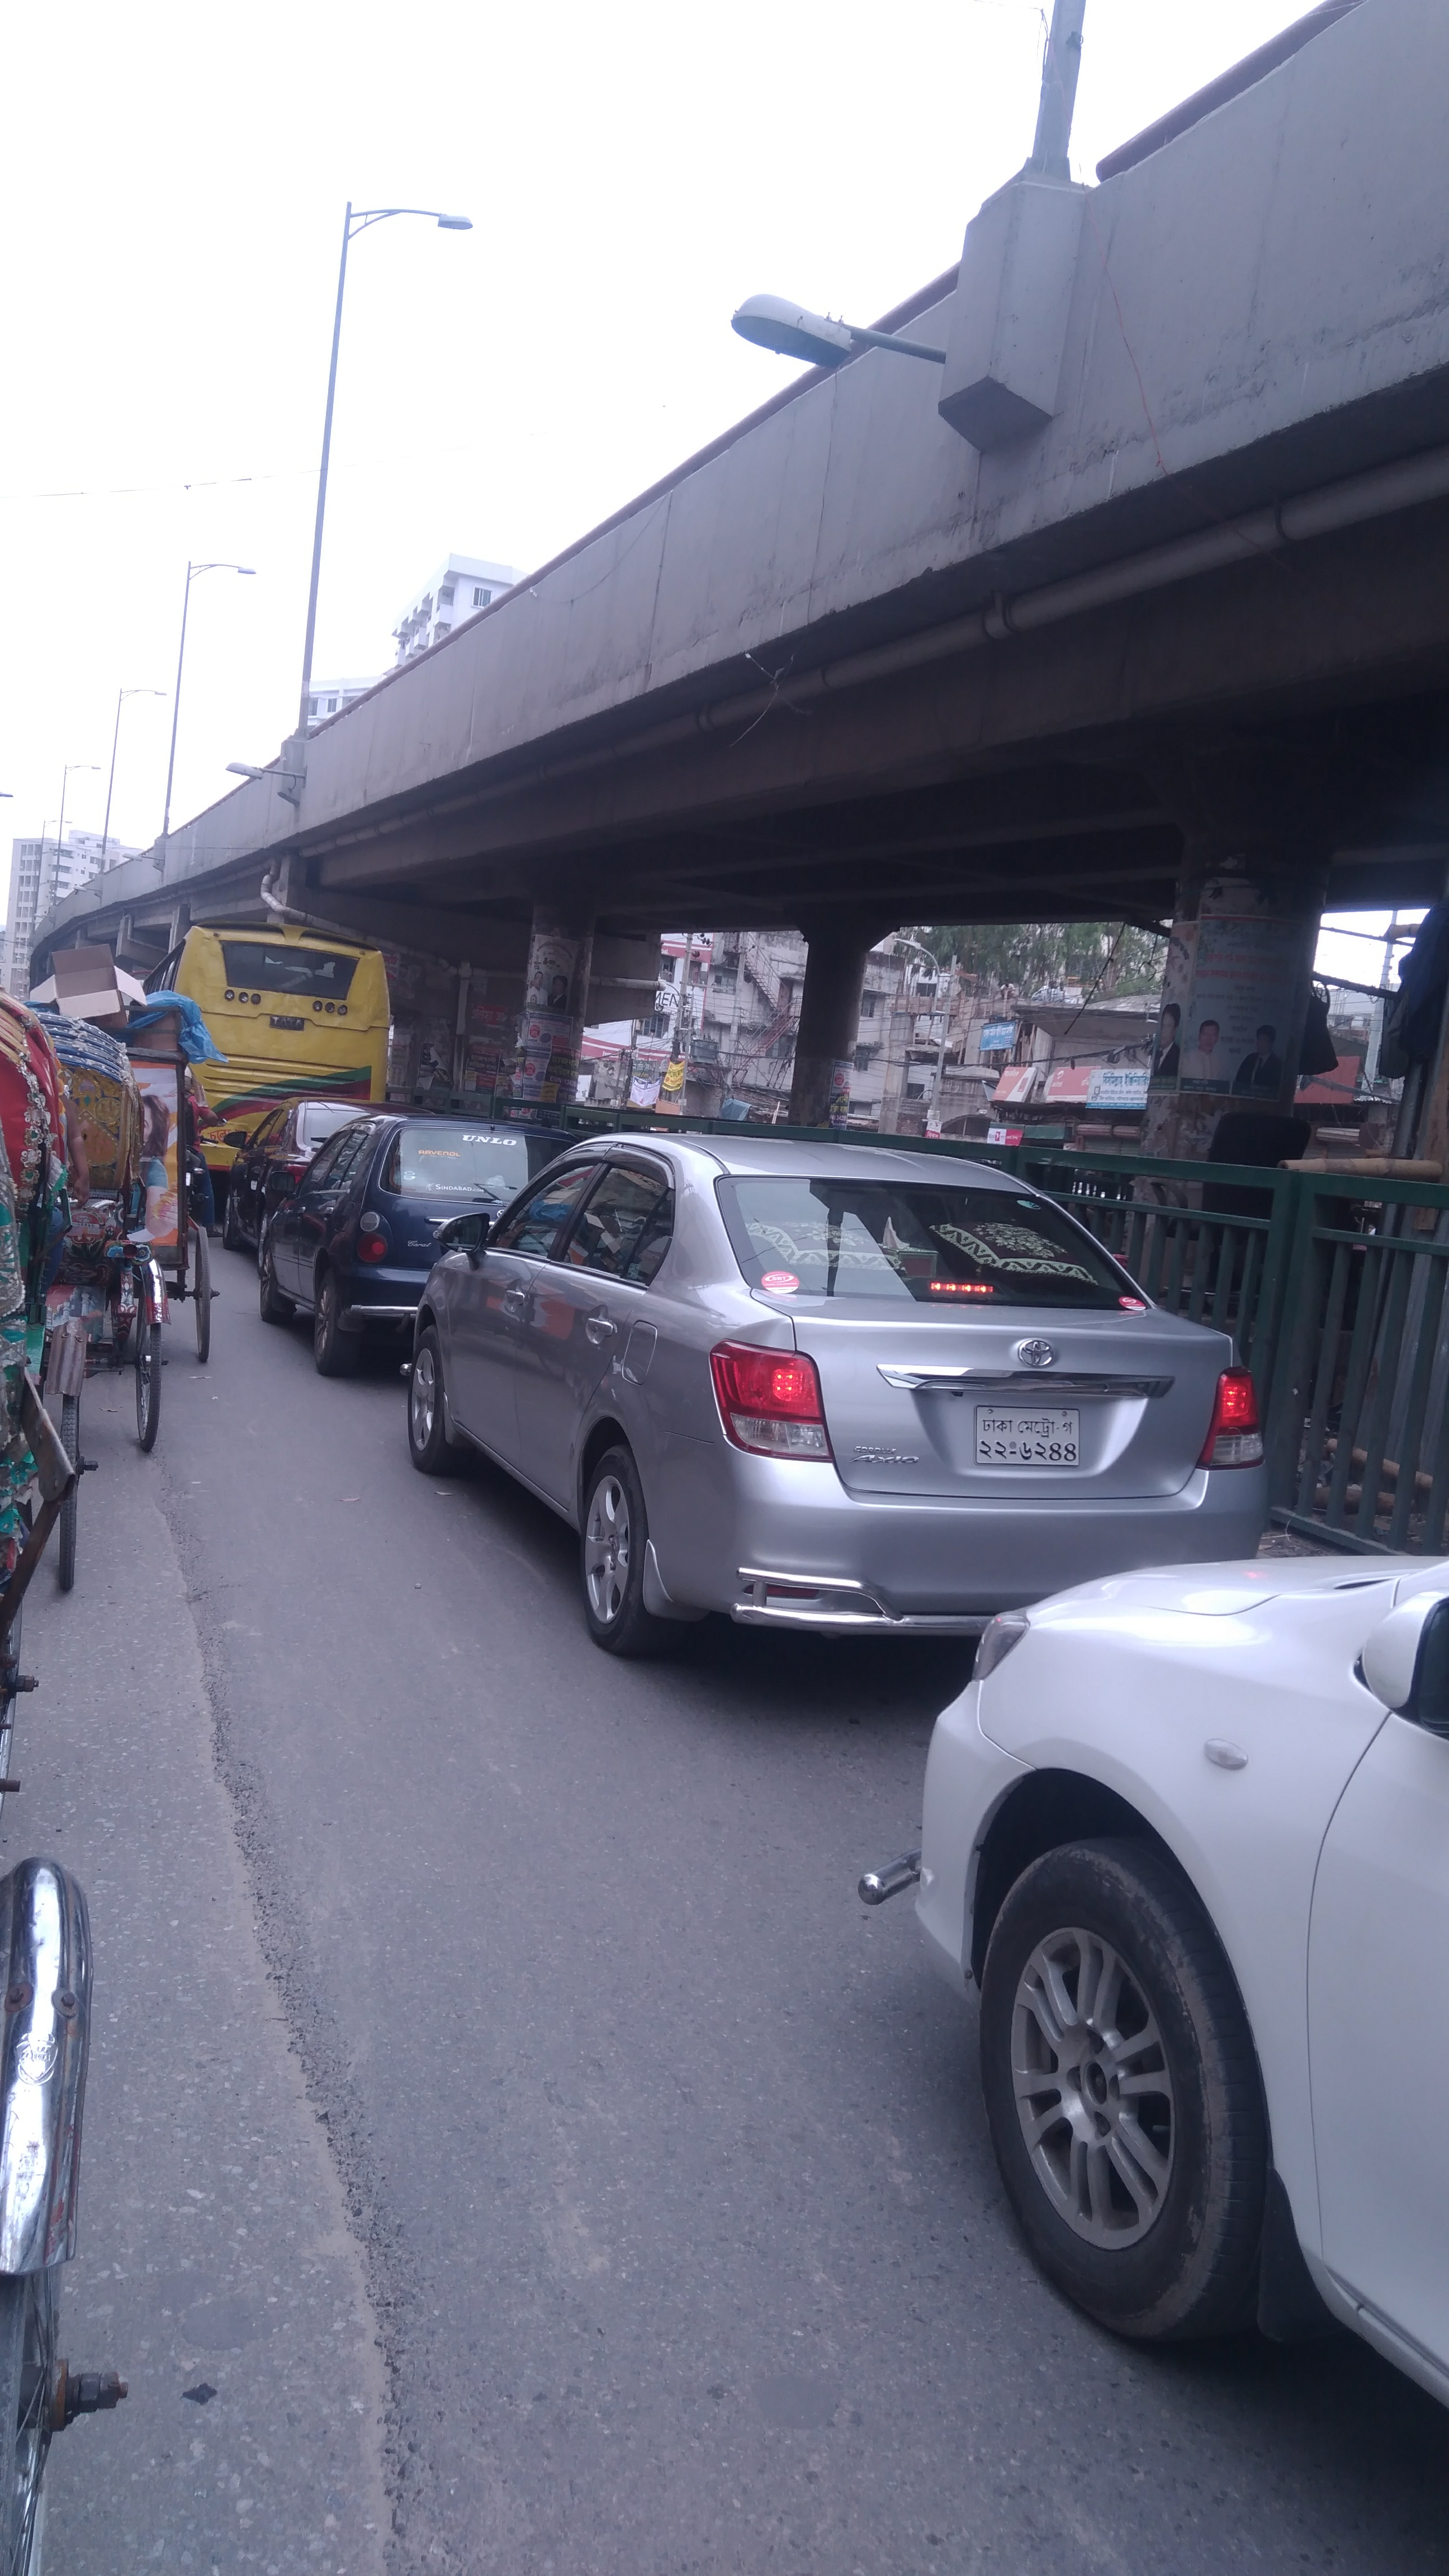bus: (145, 927, 396, 1169)
car: (856, 1546, 1449, 2438), (396, 1127, 1276, 1661), (249, 1106, 586, 1382), (225, 1093, 361, 1254)
rickshaw: (0, 998, 103, 1614), (53, 1007, 170, 1445)
